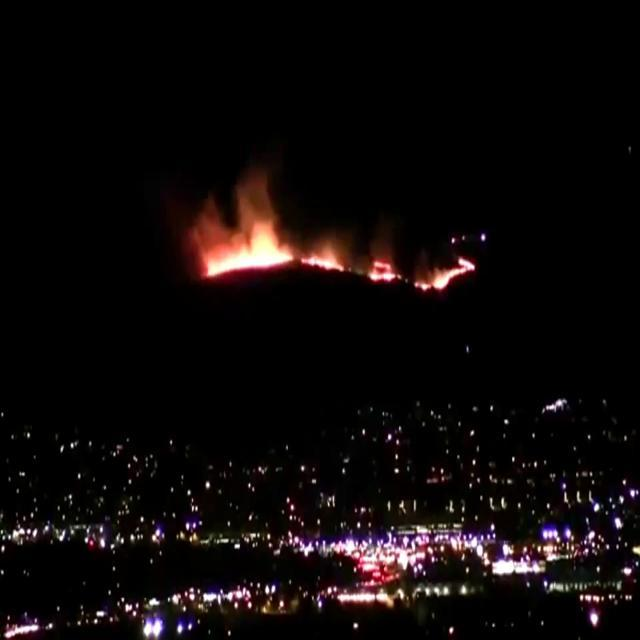Fire: (204, 224, 296, 274), (412, 252, 474, 290), (302, 236, 344, 274), (369, 254, 401, 286)
Smoke: (236, 168, 276, 214), (166, 179, 188, 244), (198, 178, 224, 225)
